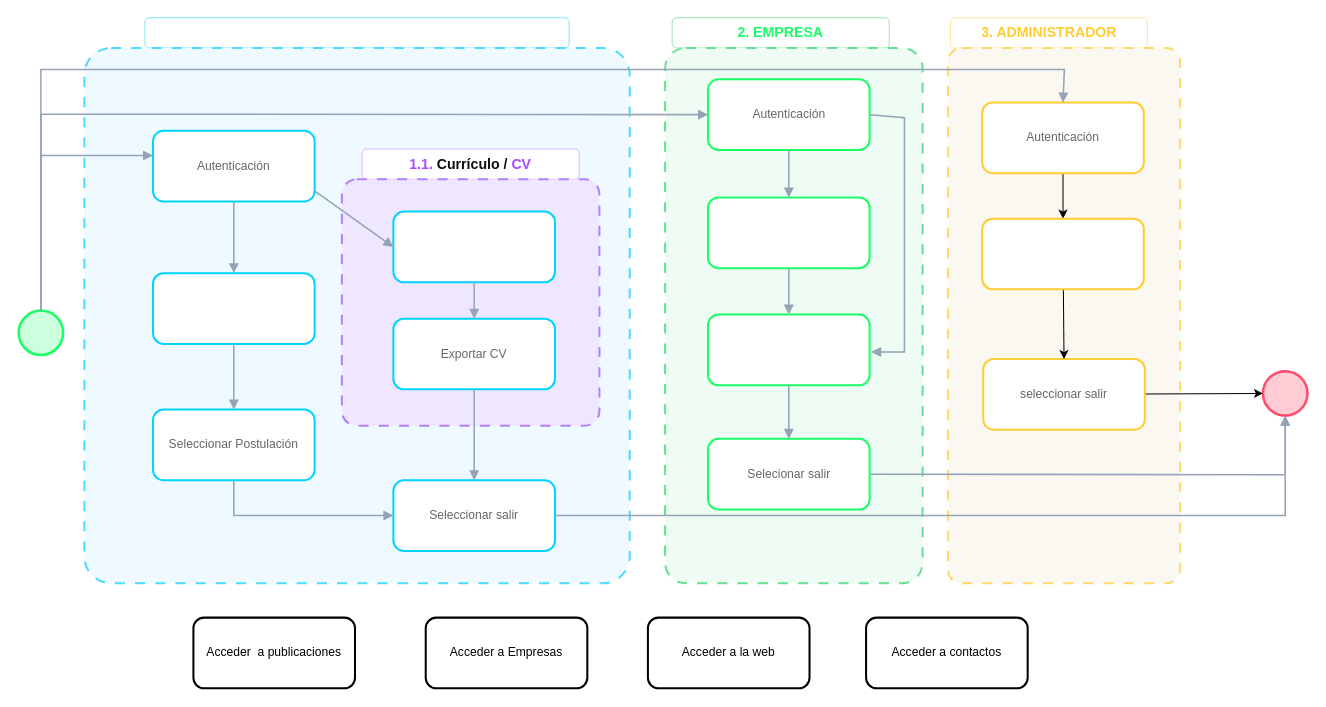
This 1326x707 diagram has some shape labels left out. The shapes that lost their labels are listed below. From the top down, each one's centre as x and y in pixels, then its label:
At point (356, 32): "1. POSTULANTE".
At point (474, 246): "Actualizar CV".
At point (788, 232): "Actualizar Perfil".
At point (1062, 253): "validar postulaciones".
At point (233, 308): "Filtrar busqueda".
At point (40, 332): "INICIO".
At point (788, 349): "publicar vacantes".
At point (1284, 392): "FIN".
